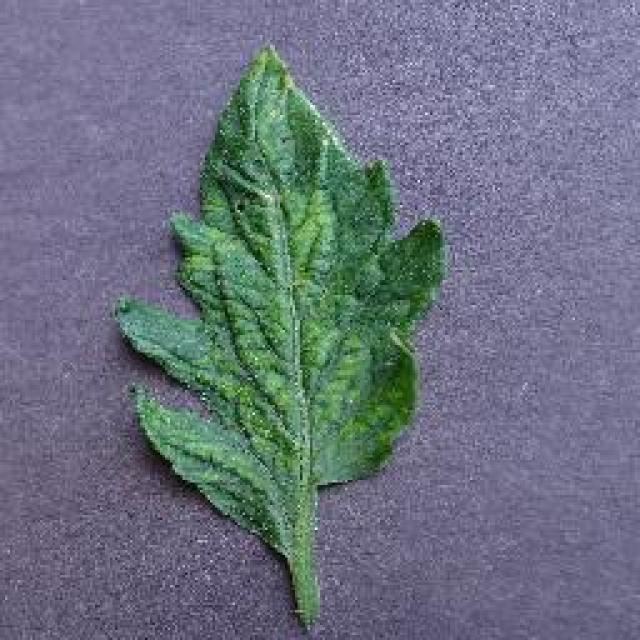Tomato___Tomato_mosaic_virus: (118, 48, 445, 622)
